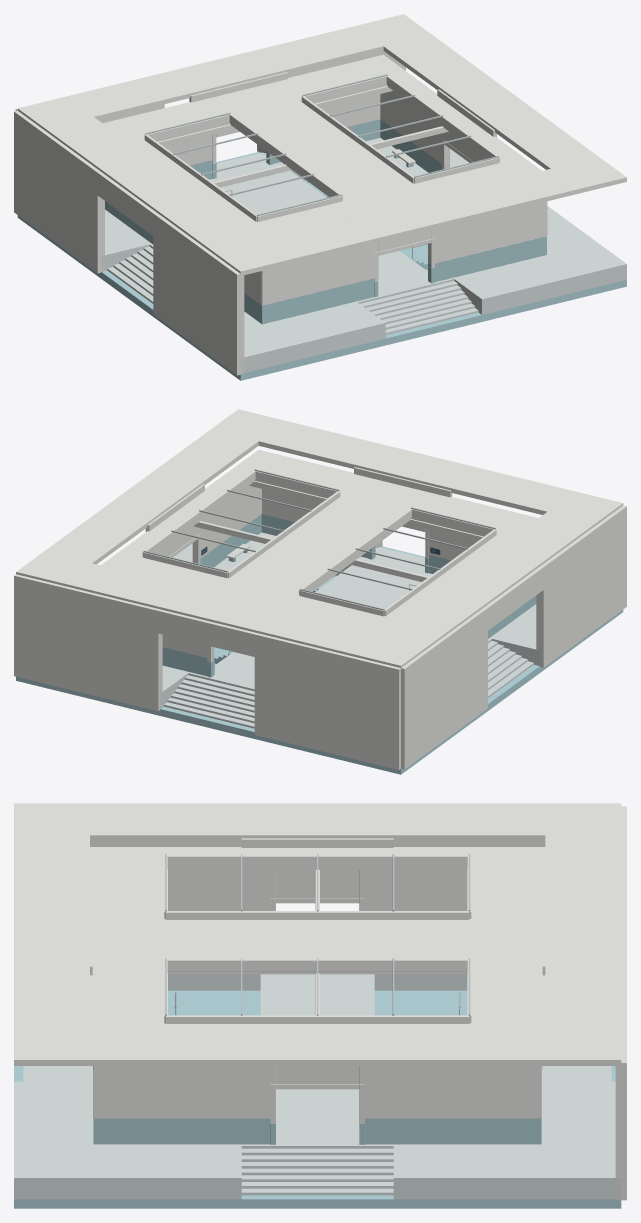
Rendered from skylight_gallery.glb.
The picture shows the model from 3 angles, top to bottom: view 1: azimuth 30°, elevation 25°; view 2: azimuth 150°, elevation 25°; view 3: azimuth 270°, elevation 25°; orthographic projection. The views are drawn at different scales.
Parts seen in each view (by area): view 1: VIS_formal_plaster, VIS_formal_dry_deck, VIS_formal_wainscot, VIS_formal_basin, VIS_brushed_stainless; view 2: VIS_formal_plaster, VIS_formal_dry_deck, VIS_formal_basin, VIS_formal_wainscot, VIS_brushed_stainless; view 3: VIS_formal_plaster, VIS_formal_dry_deck, VIS_formal_basin, VIS_formal_wainscot, VIS_brushed_stainless.
Part boxes in pixels (box(x1,y1,x2,y2)): VIS_formal_plaster: box(14, 14, 626, 375); VIS_formal_dry_deck: box(101, 137, 626, 373); VIS_formal_wainscot: box(105, 119, 546, 324); VIS_formal_basin: box(17, 152, 626, 380); VIS_brushed_stainless: box(145, 74, 498, 258); VIS_formal_plaster: box(14, 409, 626, 769); VIS_formal_dry_deck: box(160, 532, 539, 728); VIS_formal_basin: box(16, 546, 623, 774); VIS_formal_wainscot: box(162, 514, 536, 677); VIS_brushed_stainless: box(143, 469, 495, 652); VIS_formal_plaster: box(14, 803, 626, 1200); VIS_formal_dry_deck: box(14, 974, 621, 1199); VIS_formal_basin: box(14, 990, 621, 1208); VIS_formal_wainscot: box(93, 1066, 542, 1144); VIS_brushed_stainless: box(165, 854, 470, 1015).
Size of what is drawn, in the model's own units: 32.3 by 8.65 by 32.3.
